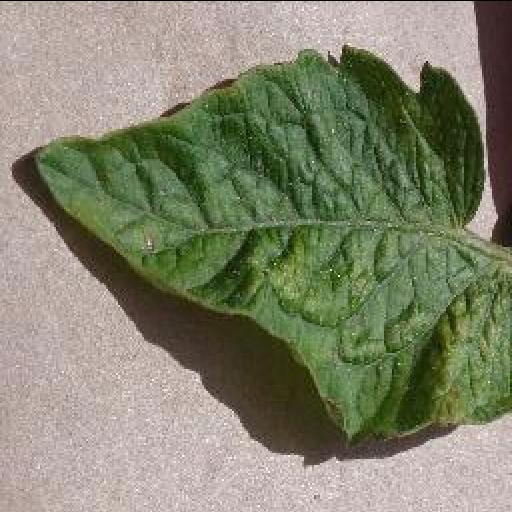disease_tomato: (30, 46, 512, 444)
